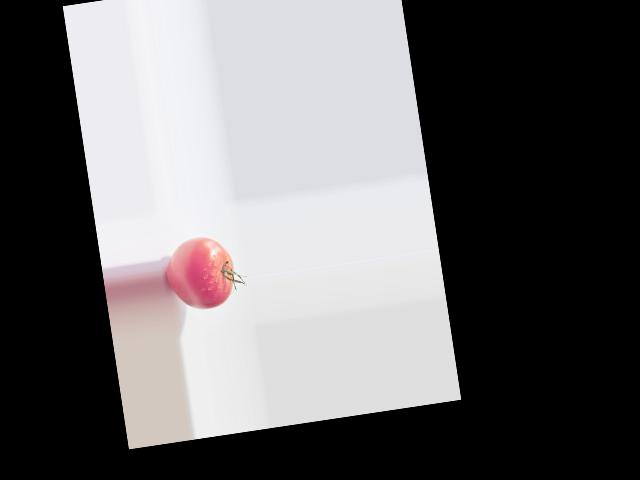tomato: (162, 232, 237, 313)
